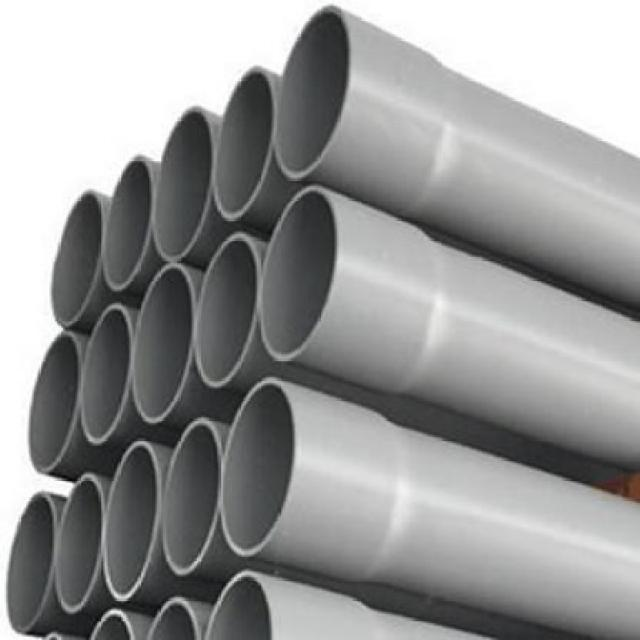pipe: (256, 184, 344, 368), (217, 374, 300, 559), (272, 2, 357, 179), (146, 103, 219, 262), (126, 259, 192, 427), (190, 231, 259, 391), (208, 64, 277, 224), (161, 416, 222, 579), (103, 438, 161, 603), (45, 186, 110, 329), (24, 329, 81, 477), (51, 469, 107, 617), (98, 148, 154, 296), (4, 489, 57, 637), (76, 306, 130, 446), (202, 566, 275, 640), (144, 597, 206, 640), (85, 606, 139, 640)
